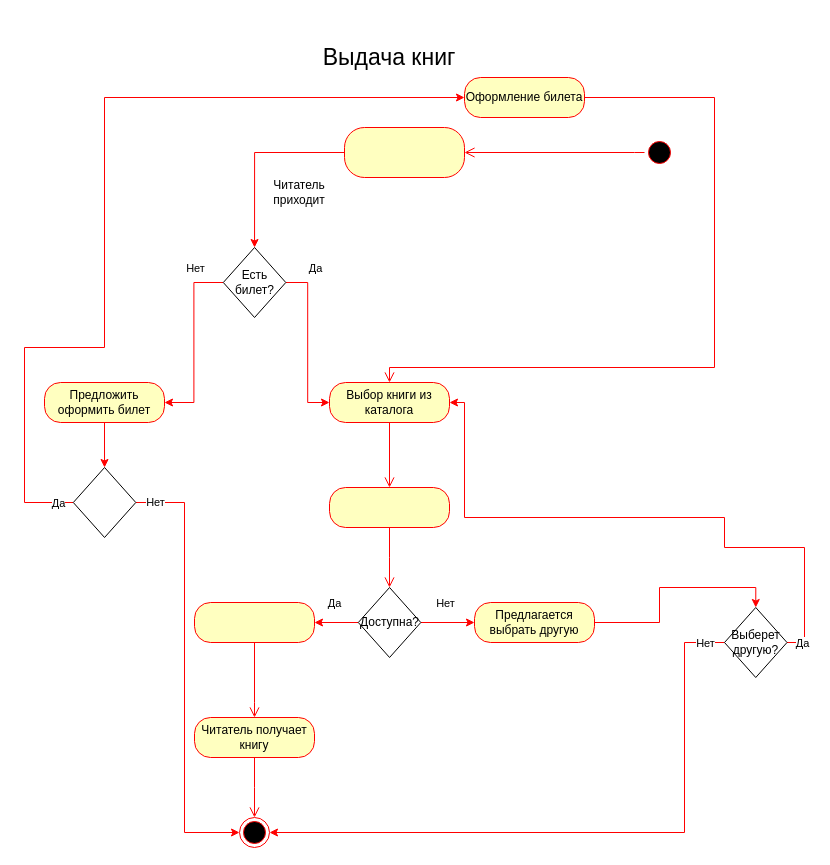
Image size: 830x865. Some labels were removed from this diagram. The centre of each missing label's shape, as x and y in pixels:
"Оформит?" belongs at point (104, 502).
"Проверка читательского билета" belongs at point (404, 152).
"Проверяется доступность книги" belongs at point (389, 507).
"Система регистрирует книгу" belongs at point (254, 622).
